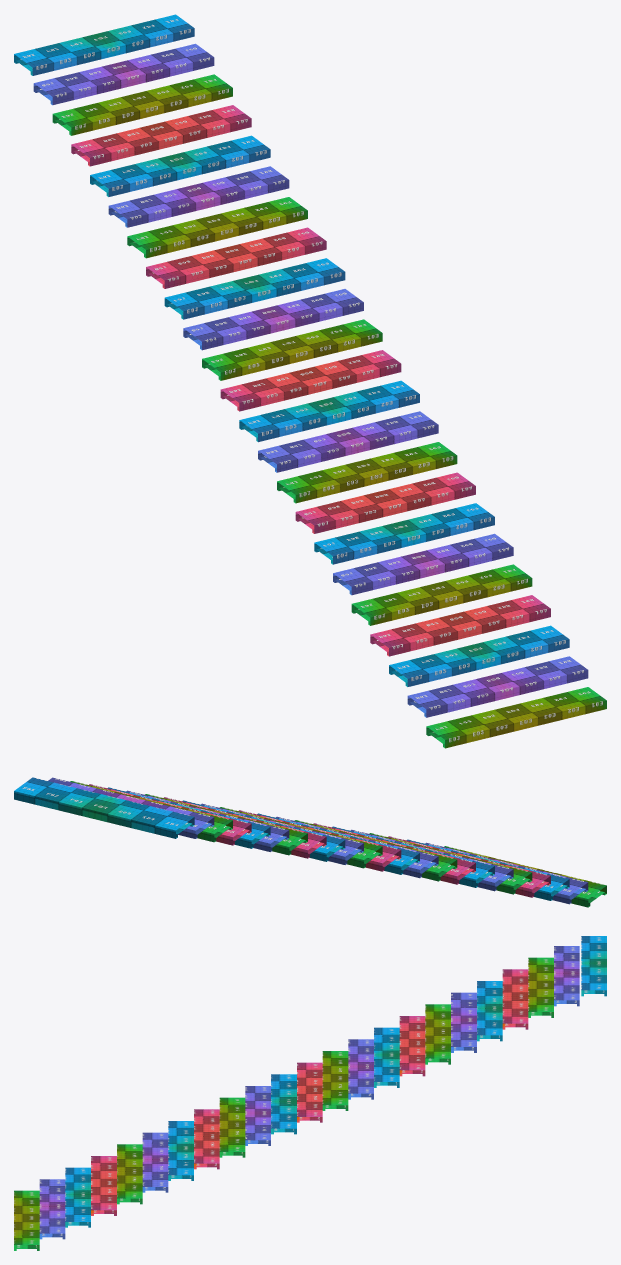
File: Stairs_low.fbx
3 views of the same model, one above another, from view 1: azimuth 30°, elevation 25°; view 2: azimuth 150°, elevation 25°; view 3: azimuth 270°, elevation 25° (orthographic). The views are drawn at different scales.
Visible parts, largest first — view 1: Stairs_low; view 2: Stairs_low; view 3: Stairs_low.
Boxes of the visible parts, x1,y1,x2,y2 form: Stairs_low: (14,14,606,748); Stairs_low: (14,777,606,907); Stairs_low: (14,936,606,1250).
Bounding box in the file's own units: 250 × 559 × 1153.
